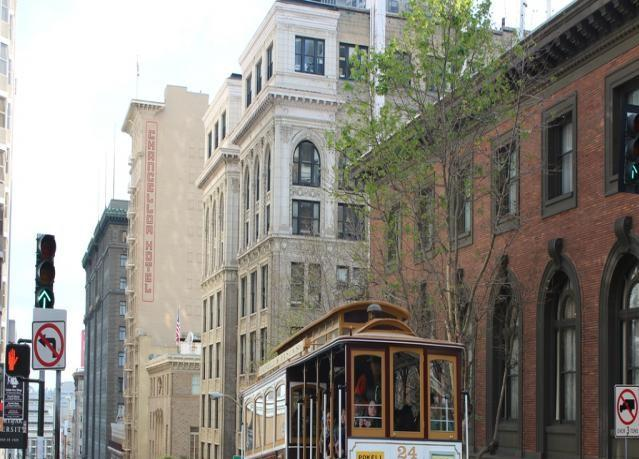green_light: (34, 234, 56, 308)
